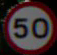Speed limit: (4, 0, 52, 49)
